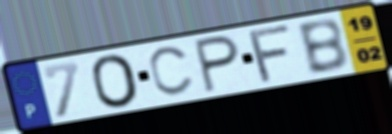7: (41, 58, 84, 119)
B: (294, 16, 352, 77)
C: (146, 43, 196, 98)
F: (247, 22, 295, 86)
O: (88, 52, 143, 110)
P: (192, 33, 242, 95)
